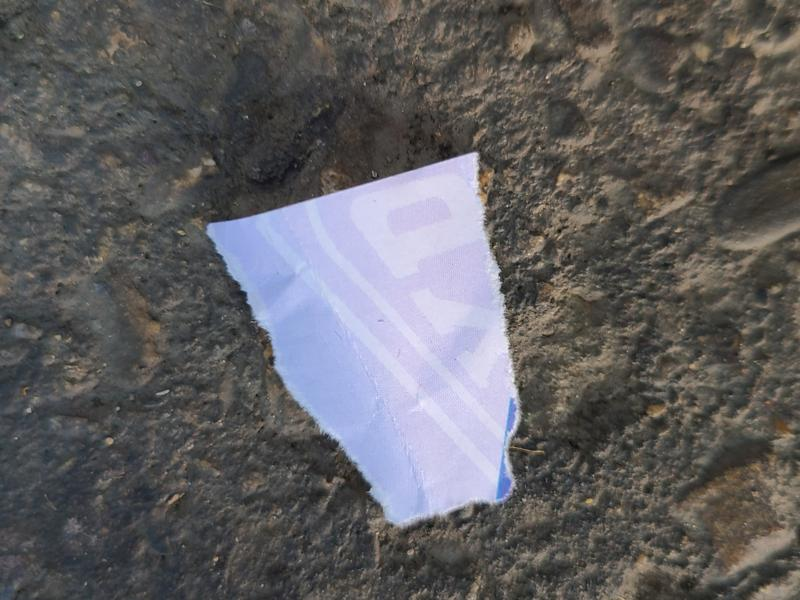papel: (204, 152, 521, 528)
